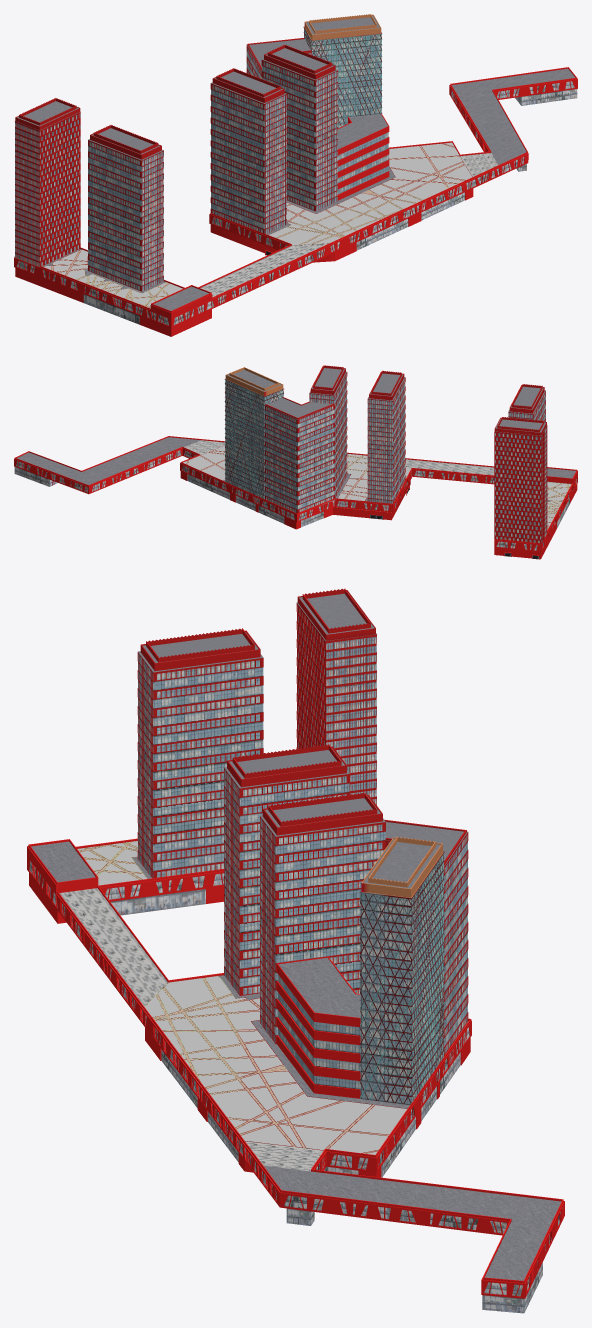
The model's file is MODEL_HUB.fbx.
3 renders of one model, top to bottom at view 1: azimuth 30°, elevation 25°; view 2: azimuth 150°, elevation 25°; view 3: azimuth 270°, elevation 25°, orthographic. The views are drawn at different scales.
Visible parts, largest first — view 1: SM_Stillobat_top, SM_Appartament02, SM_Office03, SM_Appartament01, SM_NS_GrassHUB, SM_Office01, SM_Office02, SM_Stillobat, SM_Office05_correct, SM_Border_grass_hub, SM_Rams, SM_Office04 (+1 smaller); view 2: SM_Stillobat_top, SM_Office04, SM_Appartament01, SM_Office02, SM_Office03, SM_Rams, SM_Stillobat, SM_Office01, SM_NS_GrassHUB, SM_Appartament02, SM_Rams2, SM_Border_grass_hub; view 3: SM_Stillobat_top, SM_Appartament02, SM_Office01, SM_Office02, SM_NS_GrassHUB, SM_Appartament01, SM_Office03, SM_Office05_correct, SM_Rams, SM_Stillobat, SM_Office04, SM_Border_grass_hub (+1 smaller).
Part boxes in pixels (x1,y1,x2,y2): SM_Stillobat_top: [14, 67, 577, 327]; SM_Appartament02: [88, 125, 163, 291]; SM_Office03: [210, 68, 286, 233]; SM_Appartament01: [15, 98, 80, 267]; SM_NS_GrassHUB: [44, 142, 472, 308]; SM_Office01: [261, 45, 337, 211]; SM_Office02: [304, 14, 381, 127]; SM_Stillobat: [15, 89, 577, 336]; SM_Office05_correct: [337, 113, 389, 200]; SM_Border_grass_hub: [44, 143, 472, 307]; SM_Rams: [304, 29, 381, 127]; SM_Office04: [246, 38, 311, 78]; SM_Stillobat_top: [14, 436, 577, 551]; SM_Office04: [265, 397, 334, 513]; SM_Appartament01: [494, 417, 547, 543]; SM_Office02: [225, 367, 283, 498]; SM_Office03: [367, 370, 405, 503]; SM_Rams: [225, 380, 283, 498]; SM_Stillobat: [14, 467, 577, 559]; SM_Office01: [309, 365, 347, 497]; SM_NS_GrassHUB: [183, 445, 571, 529]; SM_Appartament02: [508, 384, 545, 421]; SM_Rams2: [224, 379, 283, 495]; SM_Border_grass_hub: [186, 445, 571, 526]; SM_Stillobat_top: [27, 838, 564, 1298]; SM_Appartament02: [137, 628, 263, 878]; SM_Office01: [260, 792, 385, 1043]; SM_Office02: [360, 836, 443, 1104]; SM_NS_GrassHUB: [77, 841, 406, 1154]; SM_Appartament01: [296, 588, 376, 805]; SM_Office03: [224, 744, 349, 995]; SM_Office05_correct: [276, 956, 360, 1098]; SM_Rams: [360, 855, 443, 1104]; SM_Stillobat: [29, 873, 542, 1313]; SM_Office04: [384, 819, 468, 1055]; SM_Border_grass_hub: [79, 840, 407, 1156].
Size of the model in its own units: 472 by 120 by 227.
